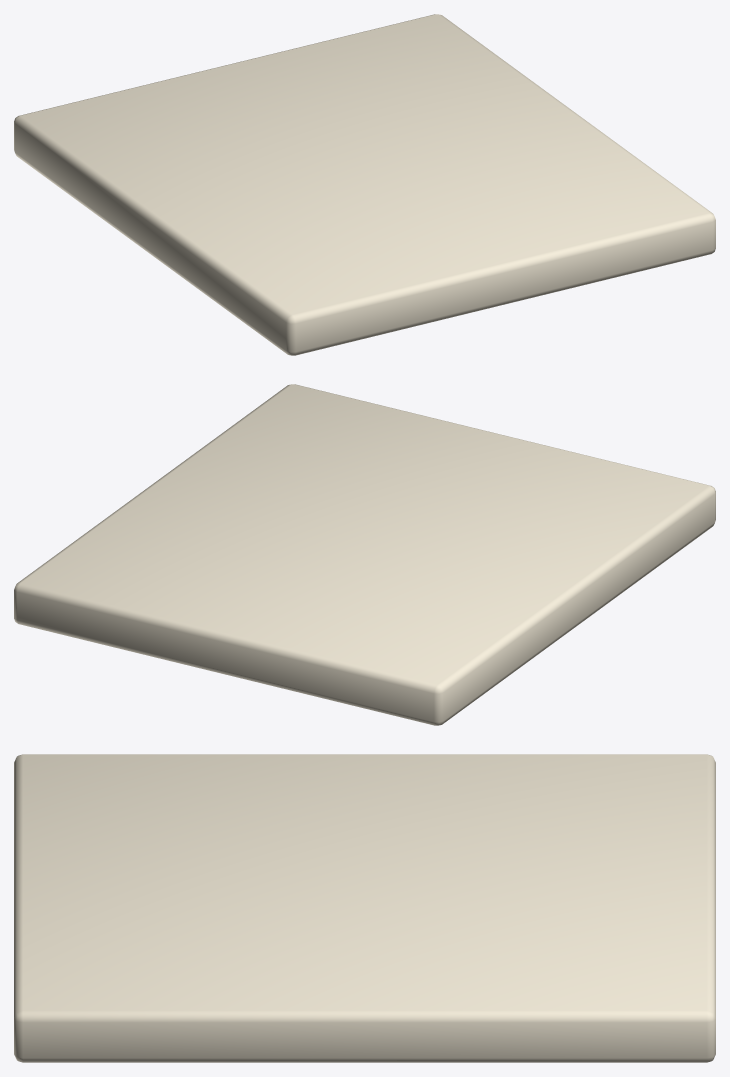
The model's file is build_wall_straight.glb.
3 views of the same model, one above another, from view 1: azimuth 30°, elevation 25°; view 2: azimuth 150°, elevation 25°; view 3: azimuth 270°, elevation 25° (orthographic). The views are drawn at different scales.
Visible parts, largest first — view 1: Wall; view 2: Wall; view 3: Wall.
Part boxes in pixels (x1,y1,x2,y2): Wall: (14,14,715,355); Wall: (14,384,715,725); Wall: (14,754,715,1062).
Bounding box in the file's own units: 2.4 × 0.22 × 2.7.
